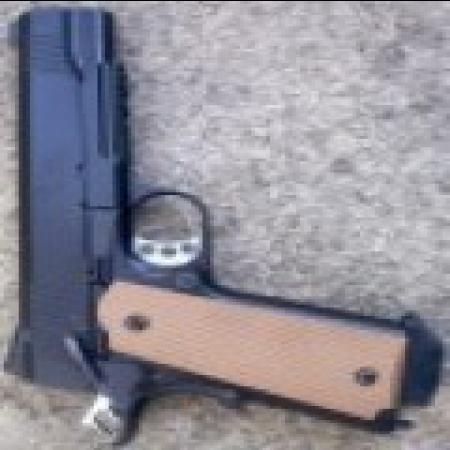Pistol: (12, 6, 424, 430)
